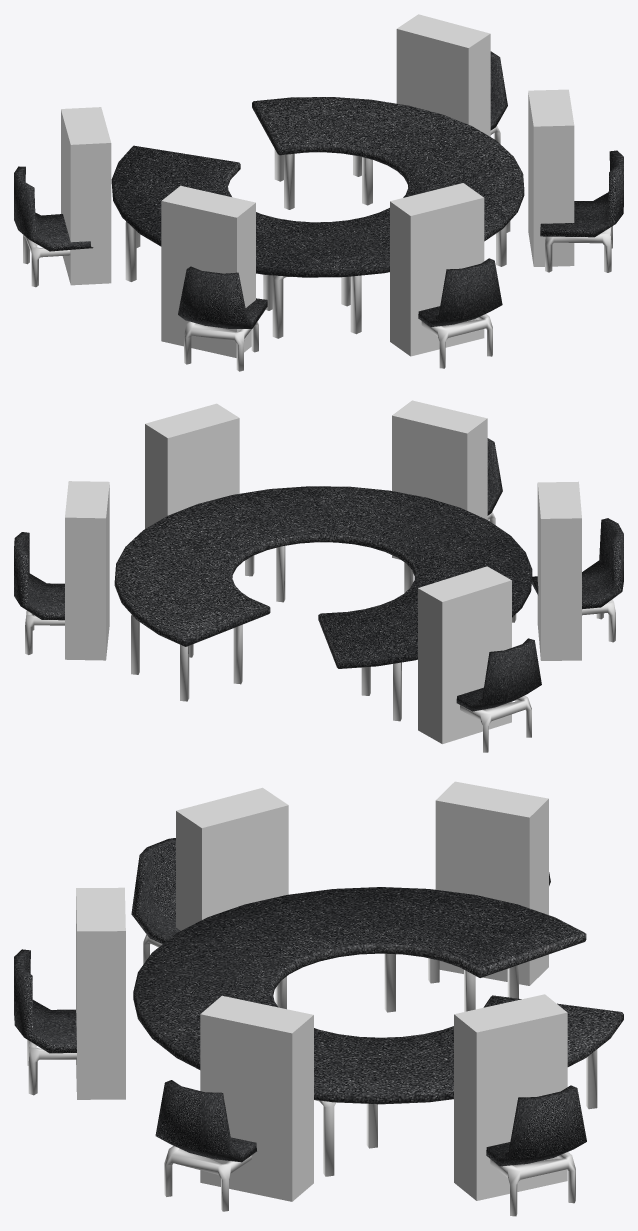
The model's file is table.fbx.
3 renders of one model, top to bottom at view 1: azimuth 30°, elevation 25°; view 2: azimuth 150°, elevation 25°; view 3: azimuth 270°, elevation 25°, orthographic. The views are drawn at different scales.
Visible parts, largest first — view 1: Cylinder, Cube.001, Cube.004, Cube, Cube.003, Cube.002, Cube.005, Cube.007, Cube.006, Cube.010, Cube.008, Cube.009; view 2: Cylinder, Cube.003, Cube.001, Cube.002, Cube, Cube.004, Cube.008, Cube.007, Cube.005, Cube.009, Cube.006; view 3: Cylinder, Cube.002, Cube, Cube.003, Cube.004, Cube.001, Cube.009, Cube.010, Cube.006, Cube.007, Cube.005.
Part boxes in pixels (x1,y1,x2,y2): Cylinder: (111,97,524,277); Cube.001: (390,183,484,356); Cube.004: (161,185,255,357); Cube: (396,14,490,136); Cube.003: (61,107,111,285); Cube.002: (528,89,574,266); Cube.005: (178,266,267,371); Cube.007: (125,149,510,338); Cube.006: (418,258,502,368); Cube.010: (540,150,623,272); Cube.008: (14,166,93,287); Cube.009: (490,51,507,143); Cylinder: (114,486,532,668); Cube.003: (418,566,511,744); Cube.001: (392,400,487,559); Cube.002: (145,403,239,528); Cube: (65,481,109,660); Cube.004: (537,481,581,660); Cube.008: (456,638,541,752); Cube.007: (131,546,516,721); Cube.005: (531,518,623,642); Cube.009: (14,532,64,654); Cube.006: (487,438,502,524); Cylinder: (133,887,623,1104); Cube.002: (200,995,313,1201); Cube: (454,994,567,1200); Cube.003: (435,781,548,985); Cube.004: (176,787,288,930); Cube.001: (76,887,125,1099); Cube.009: (486,1085,586,1216); Cube.010: (155,1080,256,1211); Cube.006: (14,949,76,1095); Cube.007: (275,953,597,1176); Cube.005: (131,838,180,964).
Bounding box in the file's own units: 670 × 183 × 595.
